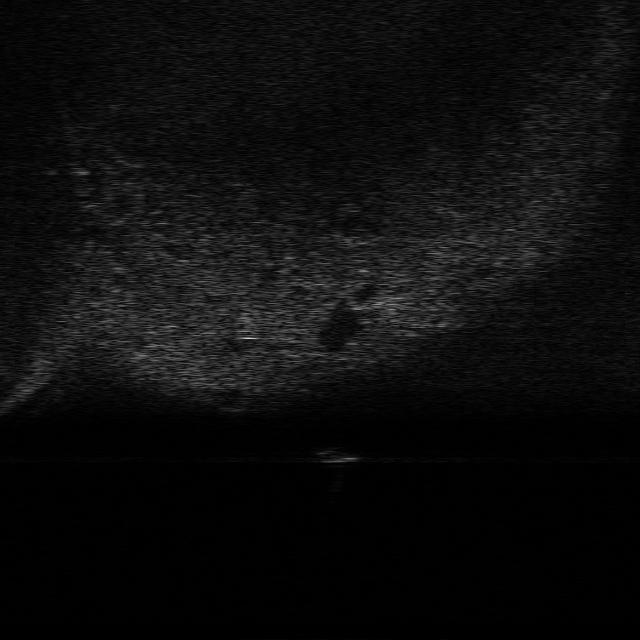cube: (307, 446, 363, 466)
